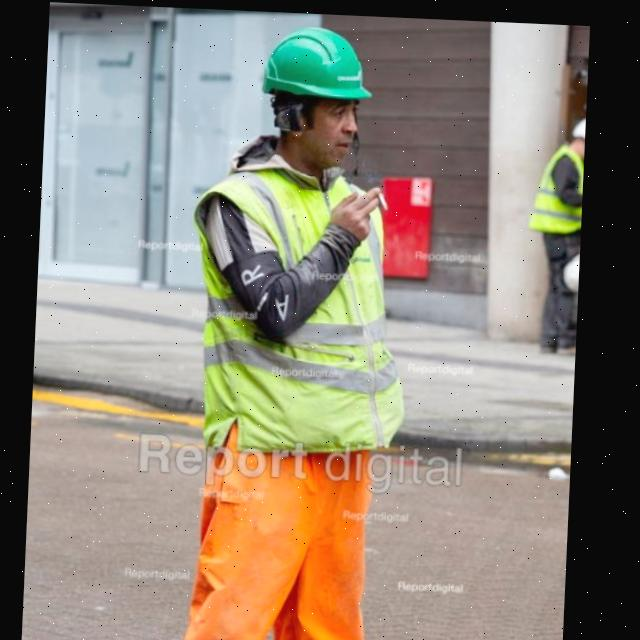cigarette: (380, 190, 391, 208)
